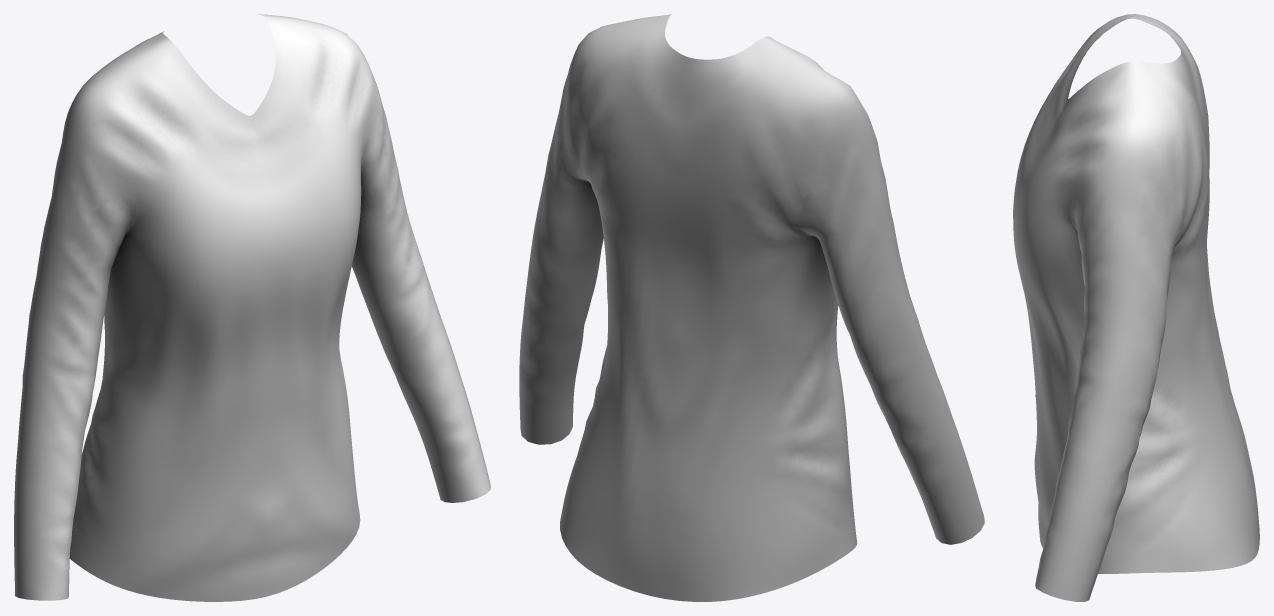
The model's file is long-sleeve-jersey.glb.
The picture shows the model from 3 angles, left to right: view 1: azimuth 30°, elevation 25°; view 2: azimuth 150°, elevation 25°; view 3: azimuth 270°, elevation 25°; orthographic projection. The views are drawn at different scales.
Visible parts, largest first — view 1: Dress_1_Group6255_0005; view 2: Dress_1_Group6255_0005; view 3: Dress_1_Group6255_0005.
Boxes of the visible parts, x1,y1,x2,y2 form: Dress_1_Group6255_0005: [14, 14, 490, 601]; Dress_1_Group6255_0005: [519, 14, 984, 601]; Dress_1_Group6255_0005: [1013, 14, 1259, 601].
Bounding box in the file's own units: 0.0577 × 0.0629 × 0.0283.
Materials: 8 (8 with a texture image).
